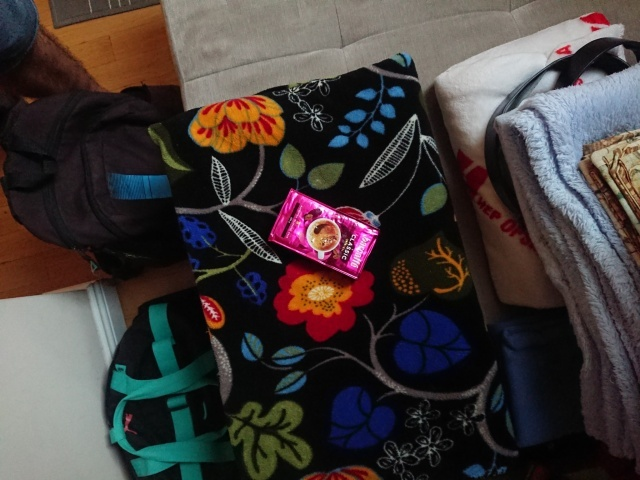Barcaffe Classic Original 225g: (265, 184, 383, 281)
